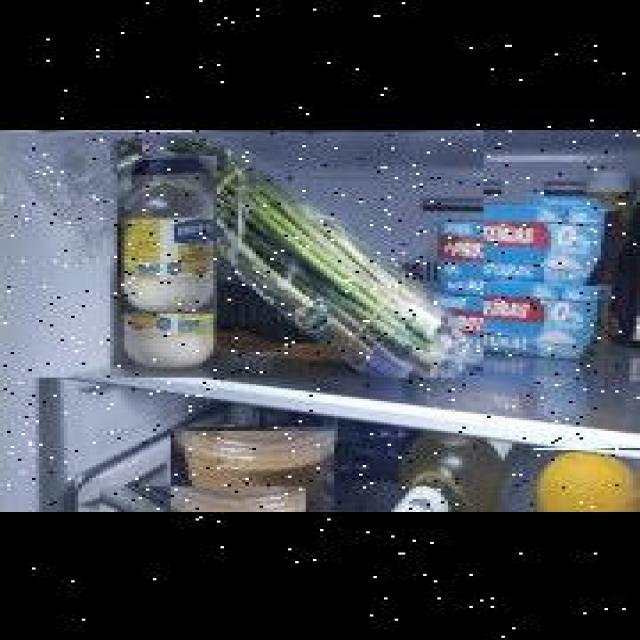asparagus: (7, 128, 484, 375)
humus: (171, 429, 334, 512)
lemon: (533, 448, 640, 512)
mayonaise: (119, 194, 219, 352)
pineapple: (100, 484, 306, 512)
